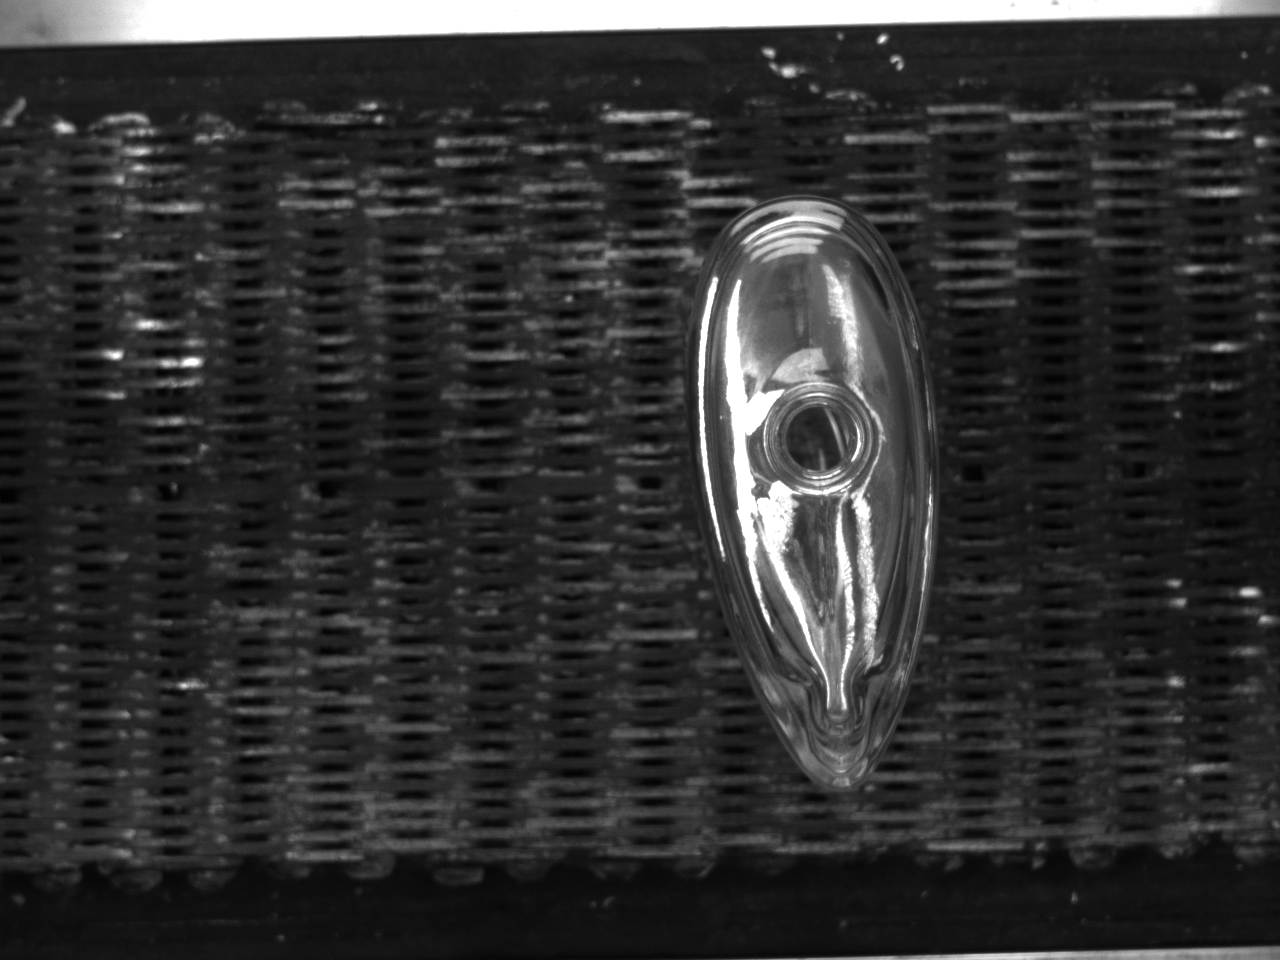bottleneck: (763, 382, 879, 493)
